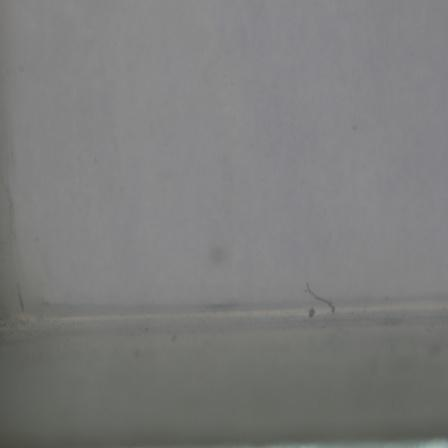Jentik-Nyamuk: (306, 278, 337, 317)
